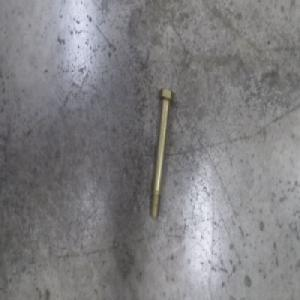Bolt: (148, 86, 175, 219)
